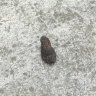Dog: (40, 36, 57, 65)
